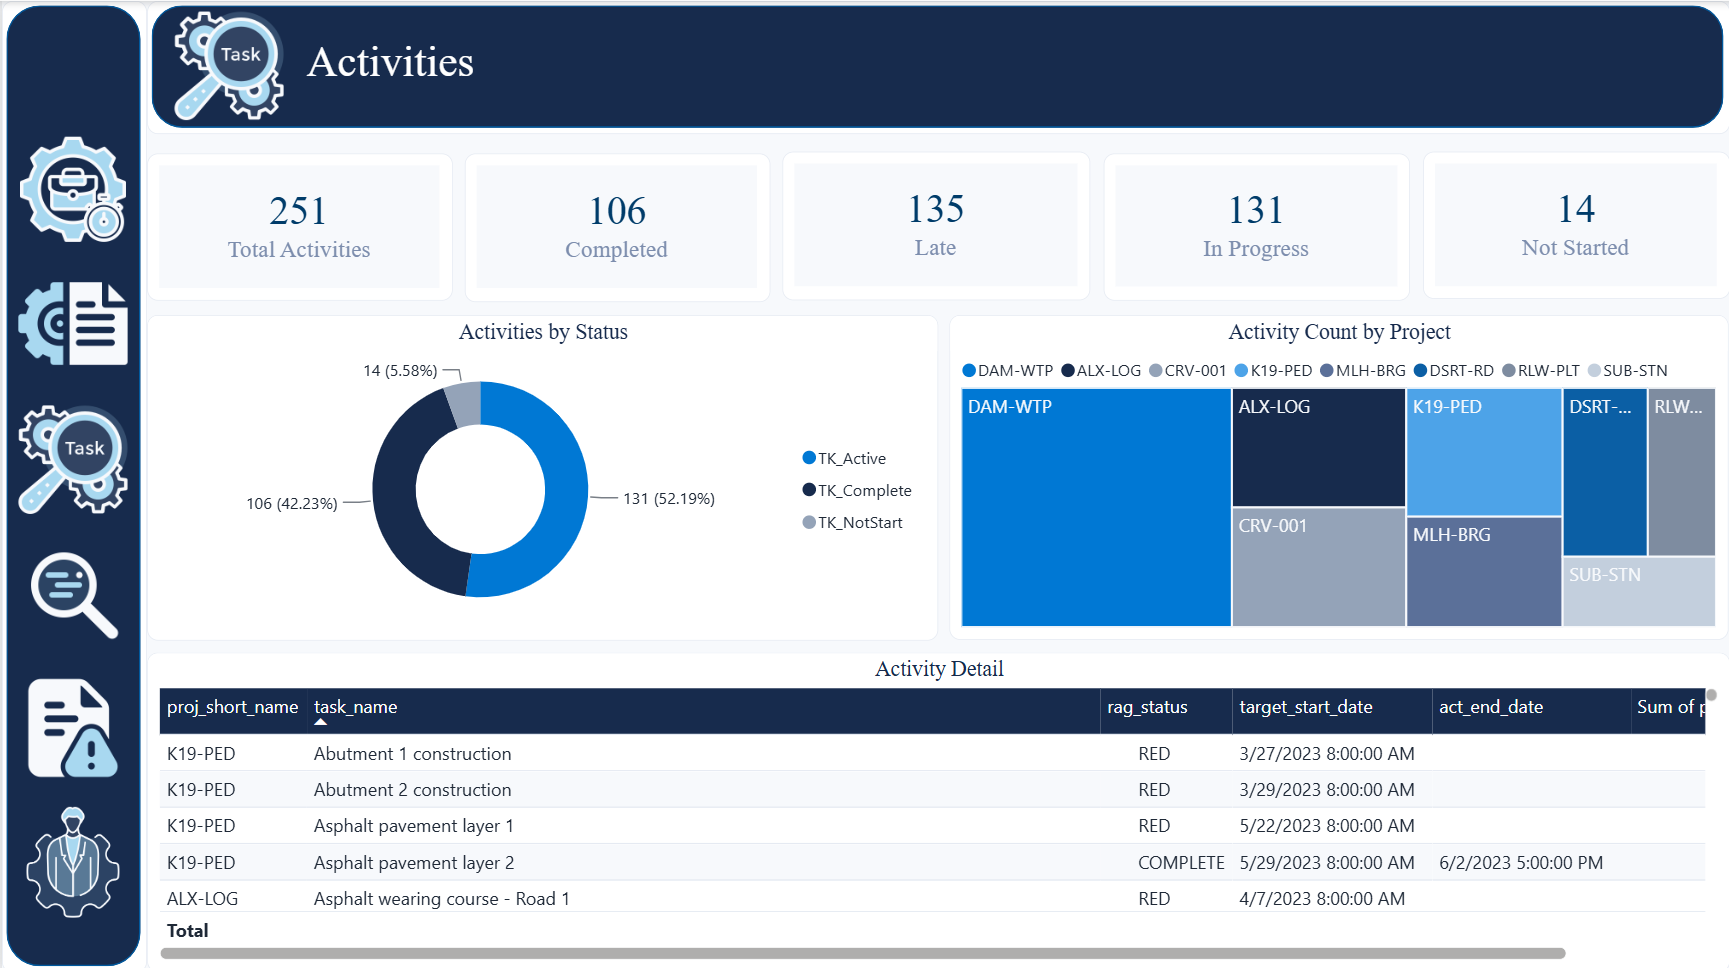

This screenshot's page, from the dashboard's own definition file:
{"tool":"powerbi","page":{"name":"Task Overview","canvas":[1280,720],"ordinal":2},"visuals":[{"type":"cardVisual","fields":{"Data":["Measurees.Late Tasks"]},"box":[578.8,111.8,228.2,110],"z":0},{"type":"cardVisual","fields":{"Data":["Measurees.Not Started Tasks"]},"box":[1052.7,111.8,227.3,109.1],"z":1000},{"type":"cardVisual","fields":{"Data":["Measurees.Active Tasks"]},"box":[816.3,113,227,109],"z":2000},{"type":"cardVisual","fields":{"Data":["Measurees.Completed Tasks"]},"box":[343,112.7,226.4,110],"z":3000},{"type":"cardVisual","fields":{"Data":["Measurees.Total Tasks"]},"box":[107.3,112.7,226.4,109.1],"z":4000},{"type":"shape","box":[107.2,0,1172.8,98.6],"z":5000},{"type":"shape","box":[0,0,107.3,720],"z":6000},{"type":"textbox","box":[220.9,20.9,696.4,55.5],"z":7000},{"type":"donutChart","title":"\tActivities by Status","fields":{"Category":["Dim_WBS_Task.status_code"],"Y":["Measurees.Total Tasks"]},"box":[107.3,232.3,586.1,241.2],"z":8000},{"type":"treemap","title":"Activity Count by Project","fields":{"Group":["Dim_Project.proj_short_name"],"Values":["Measurees.Total Tasks"]},"box":[702.7,232.7,577.3,240.9],"z":9000},{"type":"tableEx","title":"Activity Detail","fields":{"Values":["Dim_Project.proj_short_name","Dim_WBS_Task.task_name","Fact_Task_EVM.rag_status","Fact_Task_EVM.target_start_date","Fact_Task_EVM.act_end_date","Sum(Fact_Task_EVM.phys_complete_pct)"]},"box":[107.3,483.3,1173.1,236.7],"z":10000},{"type":"image","box":[127.3,7.3,80.9,82.7],"z":11000},{"type":"image","box":[12.7,98.2,80.9,82.7],"z":12000},{"type":"image","box":[12.7,198.2,80.9,82.7],"z":13000},{"type":"image","box":[12.7,298.2,80.9,82.7],"z":14000},{"type":"image","box":[12.7,398.2,80.9,82.7],"z":15000},{"type":"image","box":[12.7,597.3,80.9,81.8],"z":16000},{"type":"image","box":[12.7,498.2,80.9,81.8],"z":17000}]}

Visuals, with their boxes on the page's 1280x720 design canvas (x1, y1, x2, y2). These are canvas units, not pixel positions in the 1729x968 screenshot, which may show the page scaled, cropped or inside an application window:
cardVisual - Measurees.Late Tasks: 579, 112, 807, 222
cardVisual - Measurees.Not Started Tasks: 1053, 112, 1280, 221
cardVisual - Measurees.Active Tasks: 816, 113, 1043, 222
cardVisual - Measurees.Completed Tasks: 343, 113, 569, 223
cardVisual - Measurees.Total Tasks: 107, 113, 334, 222
shape: 107, 0, 1280, 99
shape: 0, 0, 107, 720
textbox: 221, 21, 917, 76
"	Activities by Status" donutChart: 107, 232, 693, 474
"Activity Count by Project" treemap: 703, 233, 1280, 474
"Activity Detail" tableEx: 107, 483, 1280, 720
image: 127, 7, 208, 90
image: 13, 98, 94, 181
image: 13, 198, 94, 281
image: 13, 298, 94, 381
image: 13, 398, 94, 481
image: 13, 597, 94, 679
image: 13, 498, 94, 580
